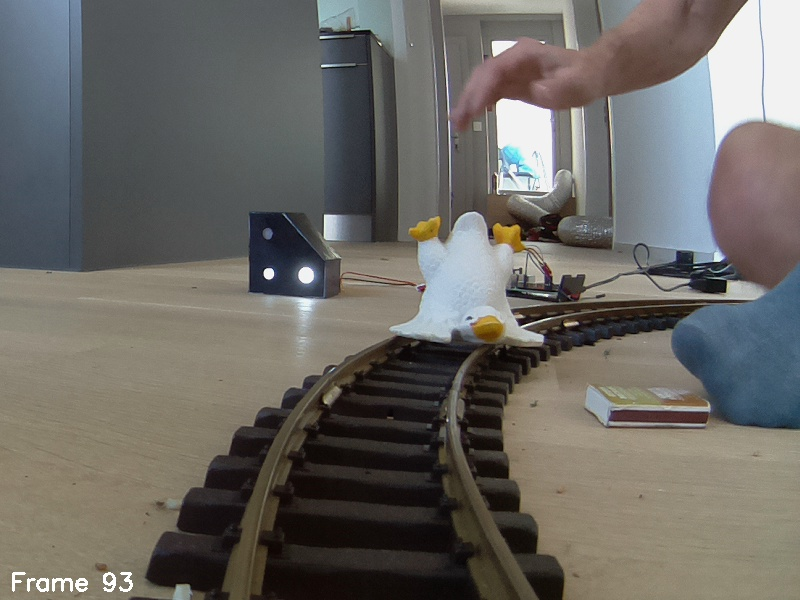Halt: (248, 210, 339, 299)
